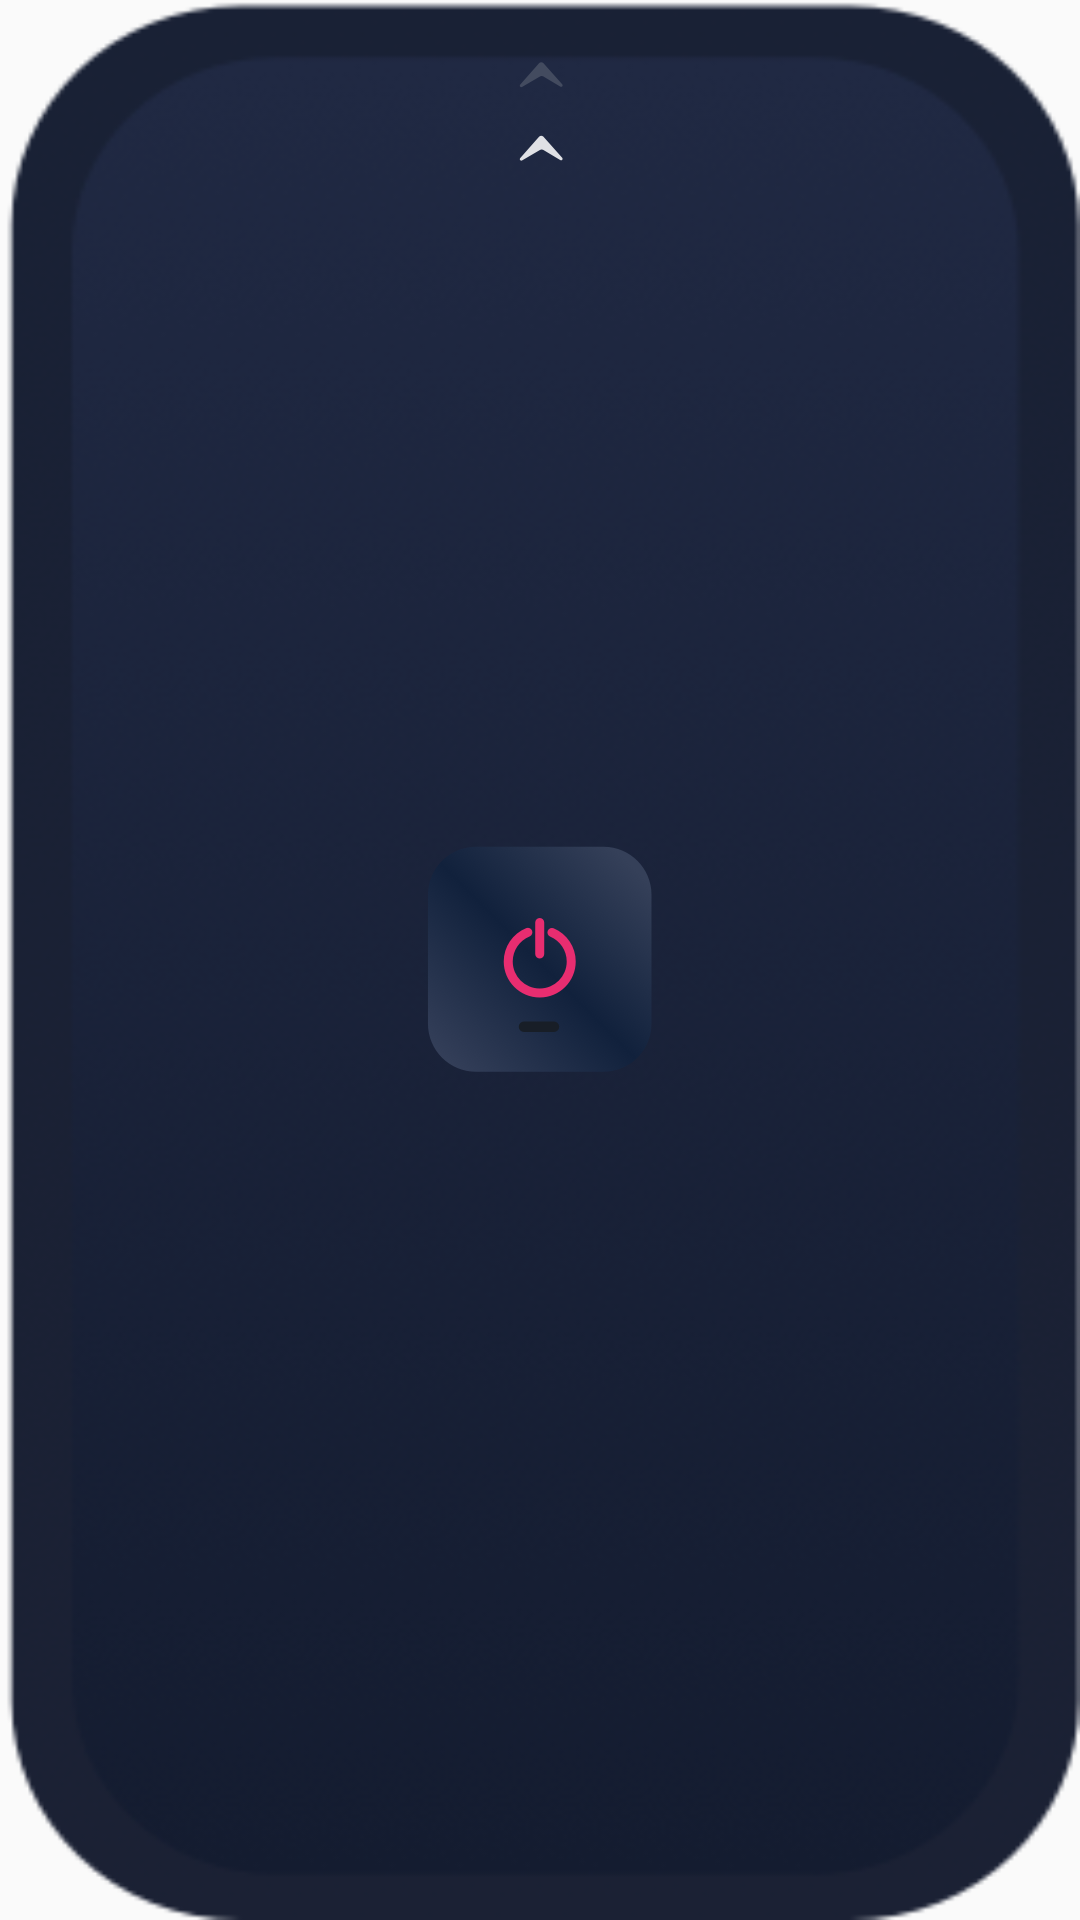

Screen size 1080px×1920px. Icon name, then its box in pixels as (x1, y1, x2, y2):
home connect animation: (520, 63, 563, 161)
home connect status iv: (428, 846, 652, 1072)
